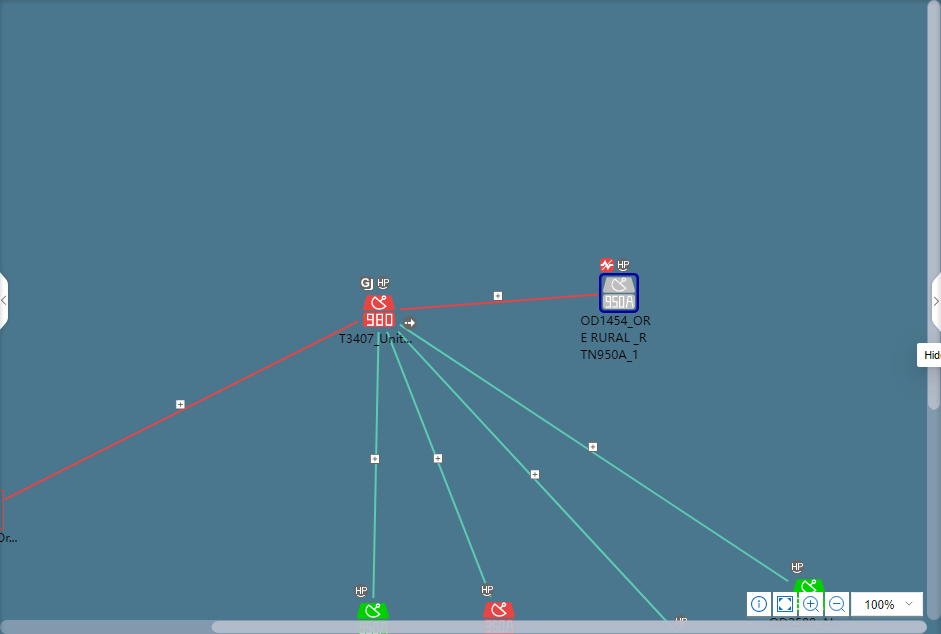Link_Blue: (400, 323, 789, 584), (396, 330, 669, 622), (385, 331, 497, 601), (371, 332, 381, 599)
Link_Red: (4, 320, 358, 501), (400, 293, 598, 311)
RTN_Gray: (600, 276, 637, 311)
RTN_Green: (357, 605, 388, 621), (793, 580, 824, 593)
RTN_Red: (363, 296, 394, 327), (483, 604, 514, 620)
